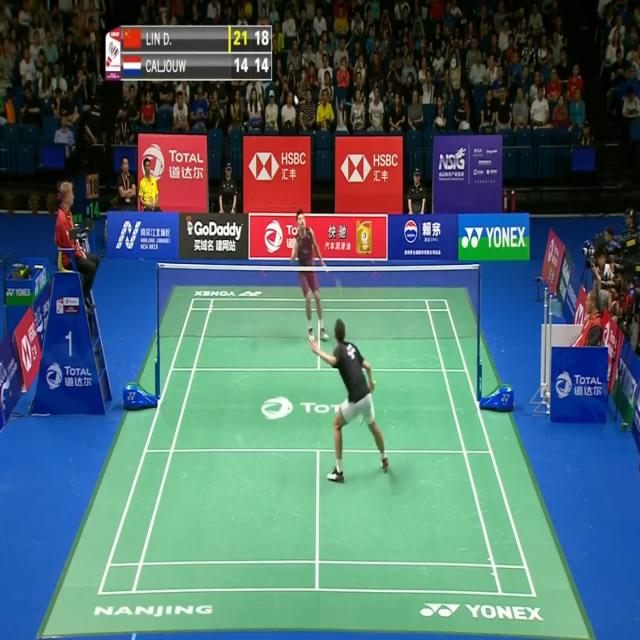Player1: (306, 318, 394, 486)
Player2: (288, 206, 330, 342)
